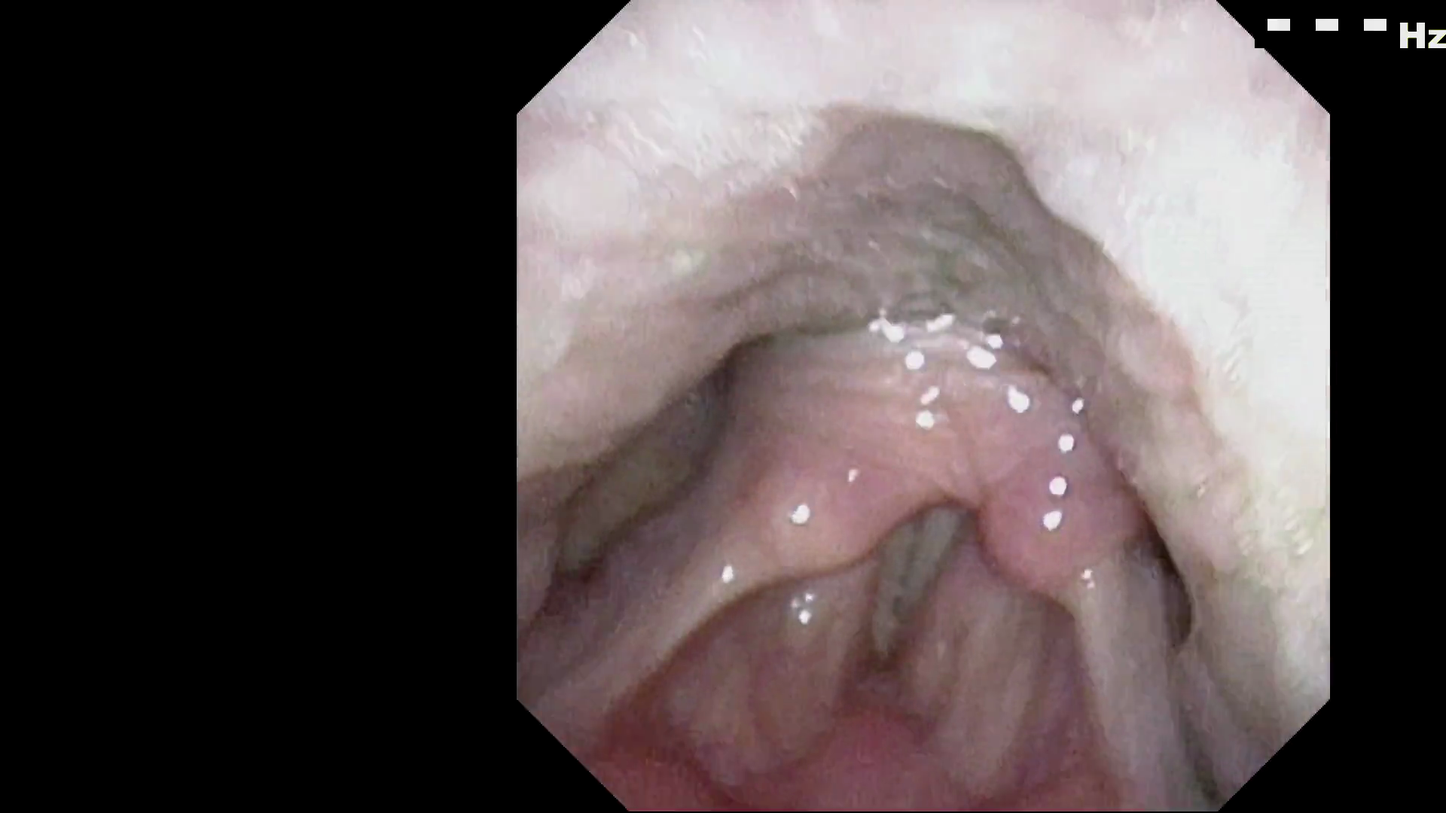epiglottis: (573, 298, 945, 477)
trachea: (859, 456, 998, 656)
